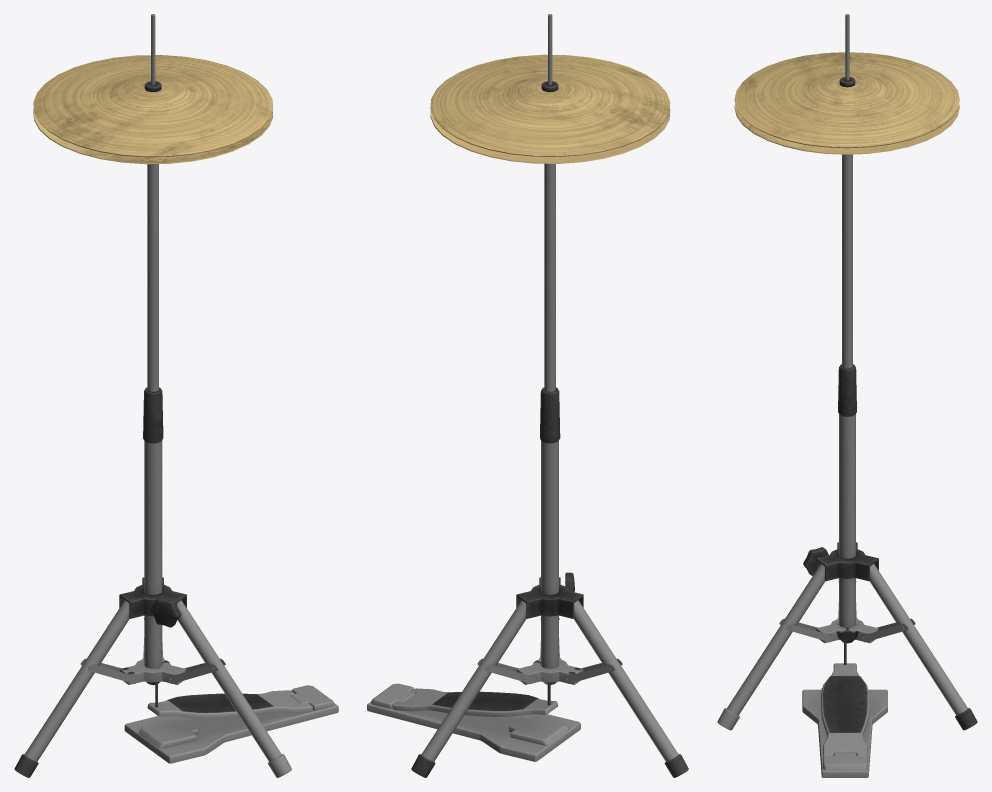
The model's file is SM_Drum_Hihat_01.fbx.
3 renders of one model, left to right at view 1: azimuth 30°, elevation 25°; view 2: azimuth 150°, elevation 25°; view 3: azimuth 270°, elevation 25°, orthographic. The views are drawn at different scales.
Visible parts, largest first — view 1: SM_Drum_Hihat_01_LOD0; view 2: SM_Drum_Hihat_01_LOD0; view 3: SM_Drum_Hihat_01_LOD0.
Boxes of the visible parts, box(x1,y1,x2,y2) form: SM_Drum_Hihat_01_LOD0: box(14, 14, 338, 777); SM_Drum_Hihat_01_LOD0: box(367, 14, 688, 777); SM_Drum_Hihat_01_LOD0: box(717, 14, 977, 777).
Bounding box in the file's own units: 43.01 × 33.37 × 96.98.
Materials: 1 (1 with a texture image).
